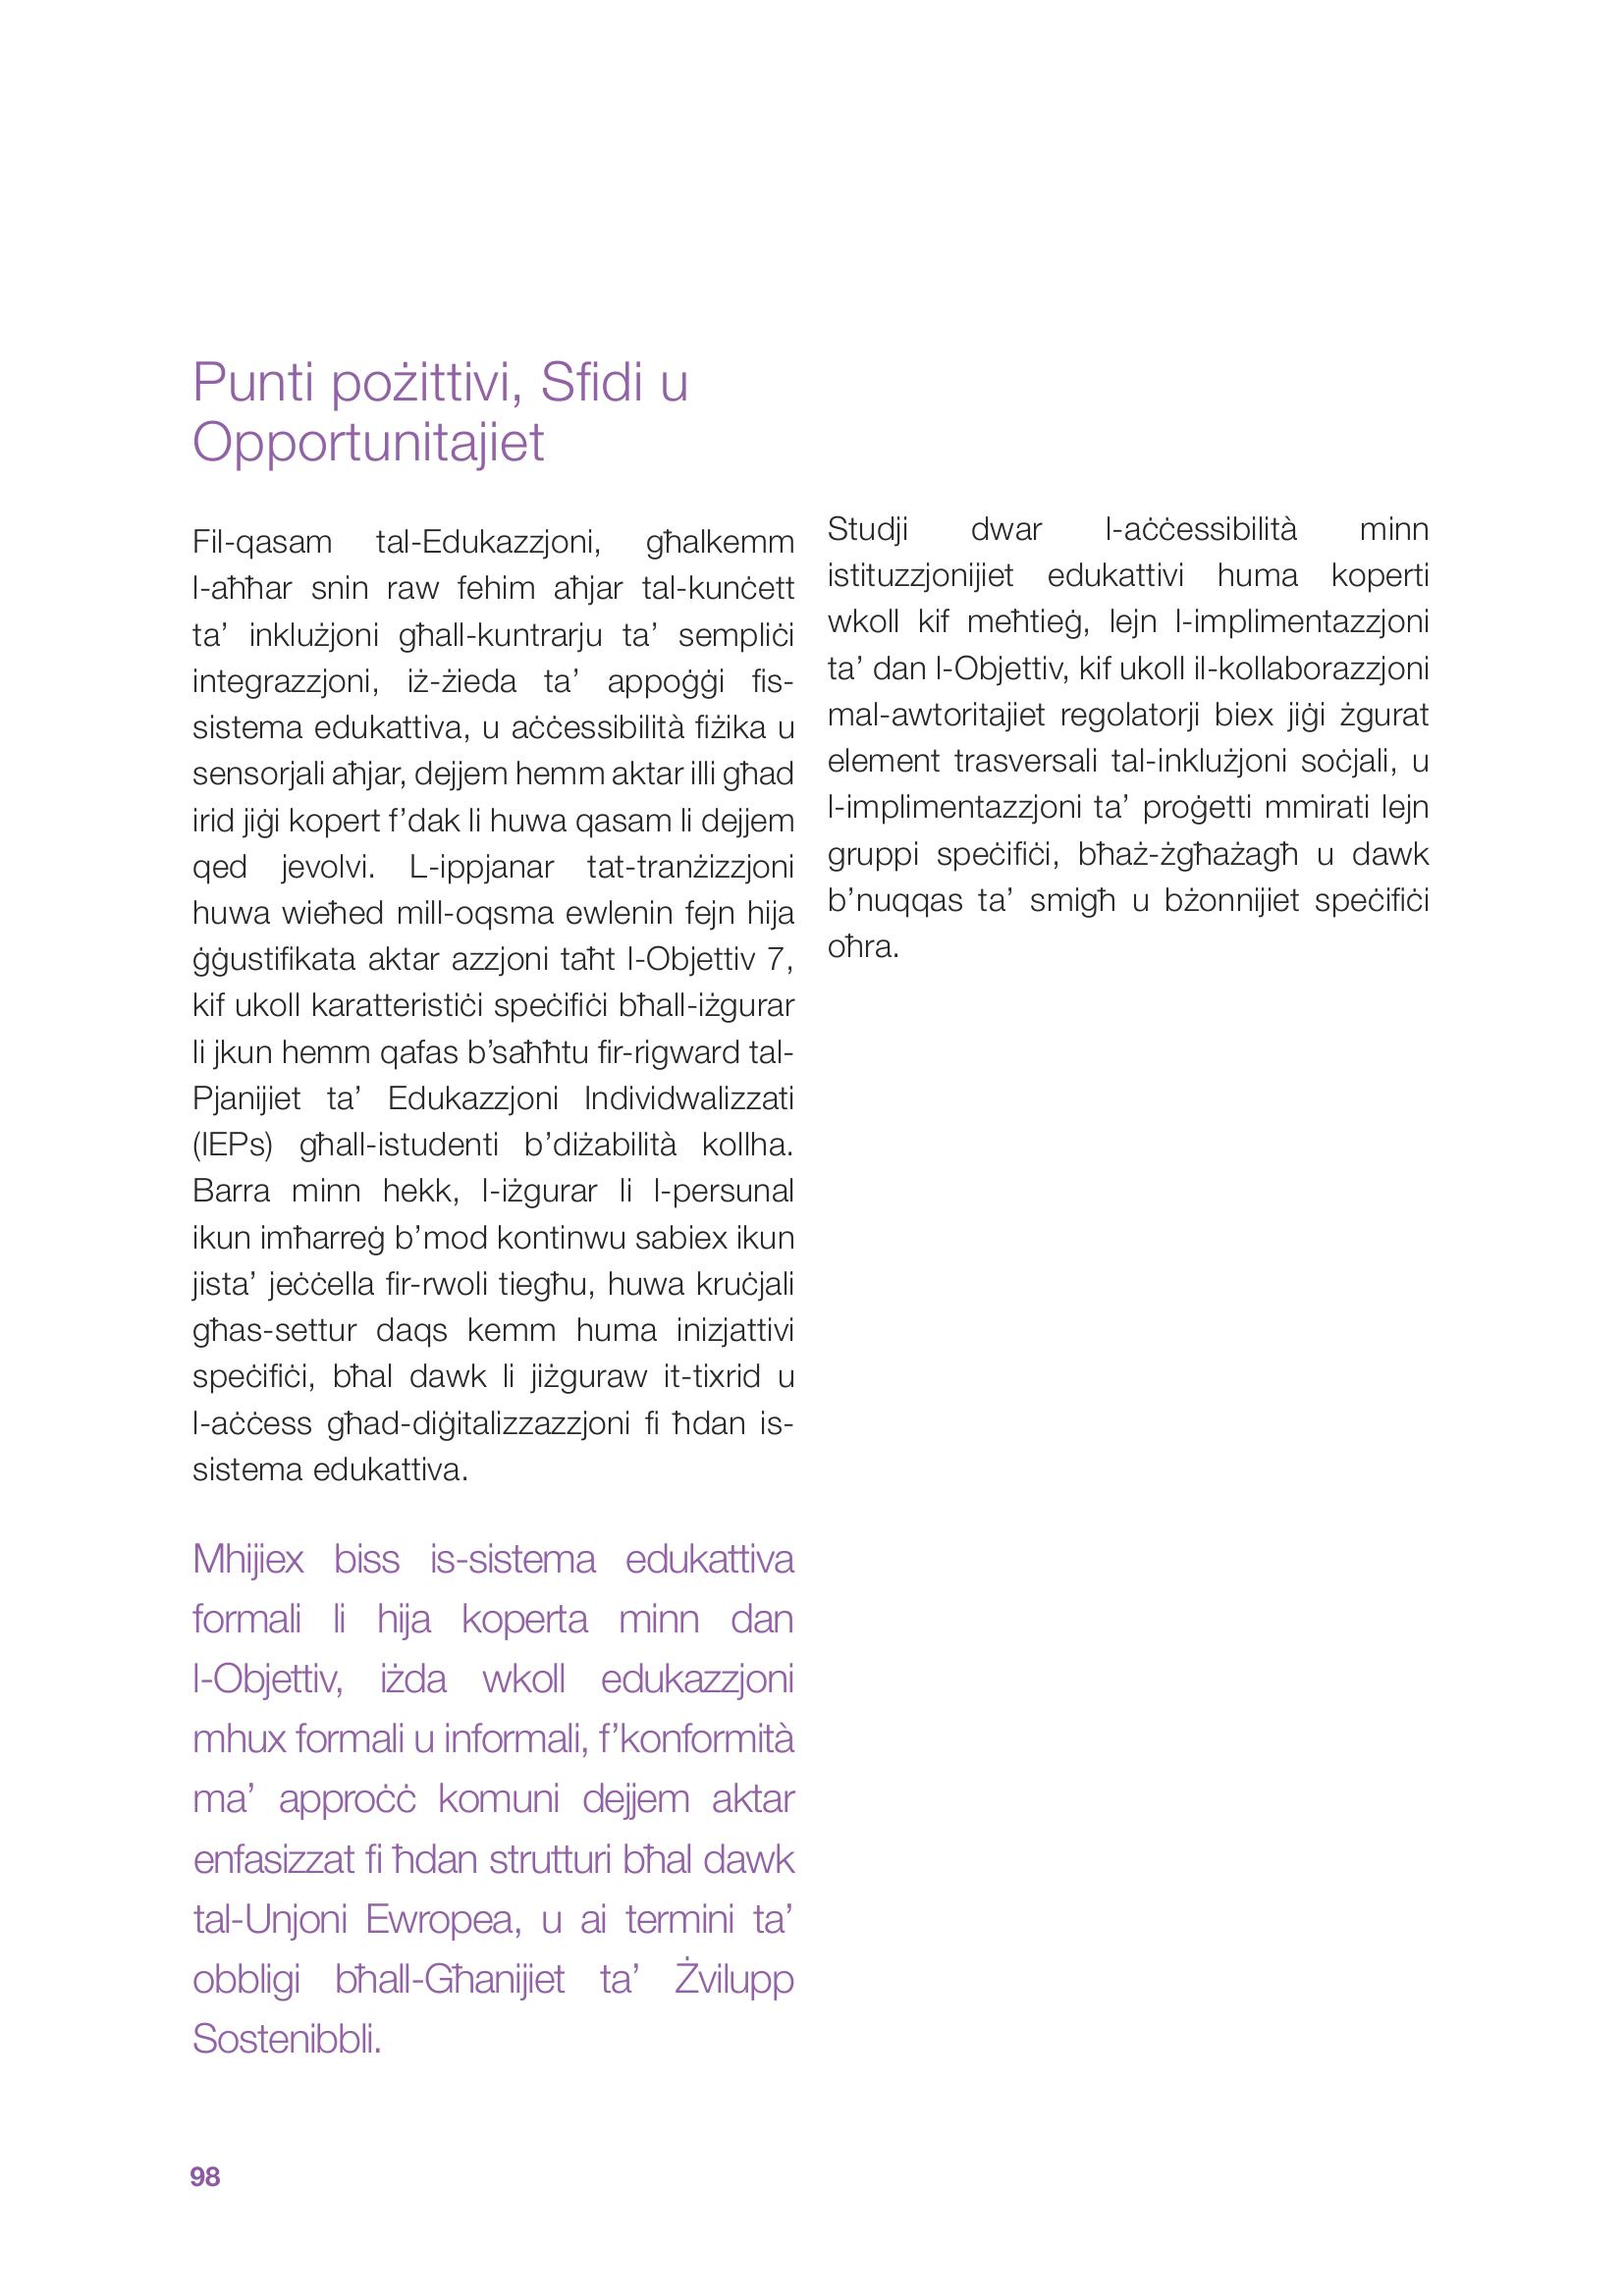text: (174, 336, 810, 2071), (814, 494, 1469, 987)
